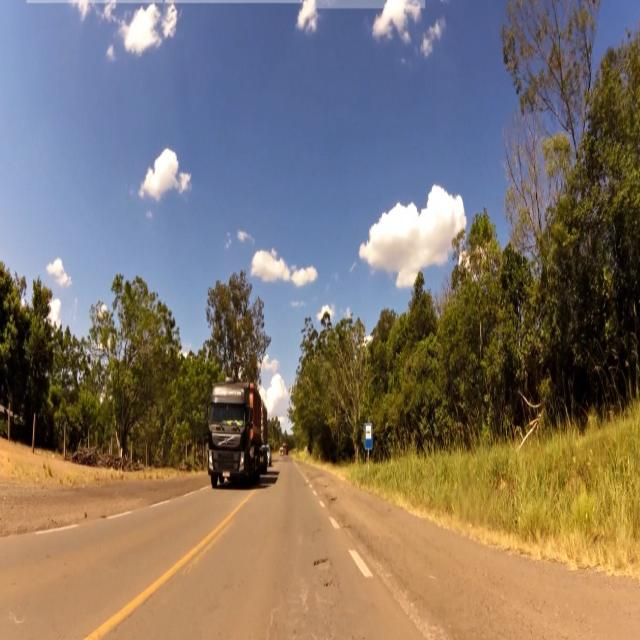S-14: (364, 423, 372, 452)
